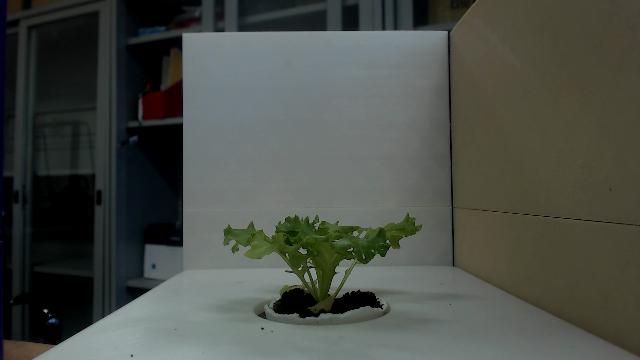Vegetative Stage: (223, 212, 425, 316)
